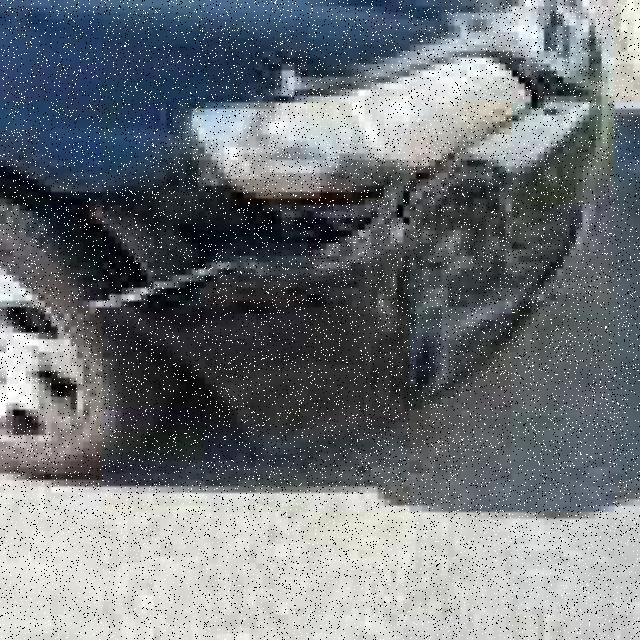front-bumper-dent: (26, 166, 634, 428)
